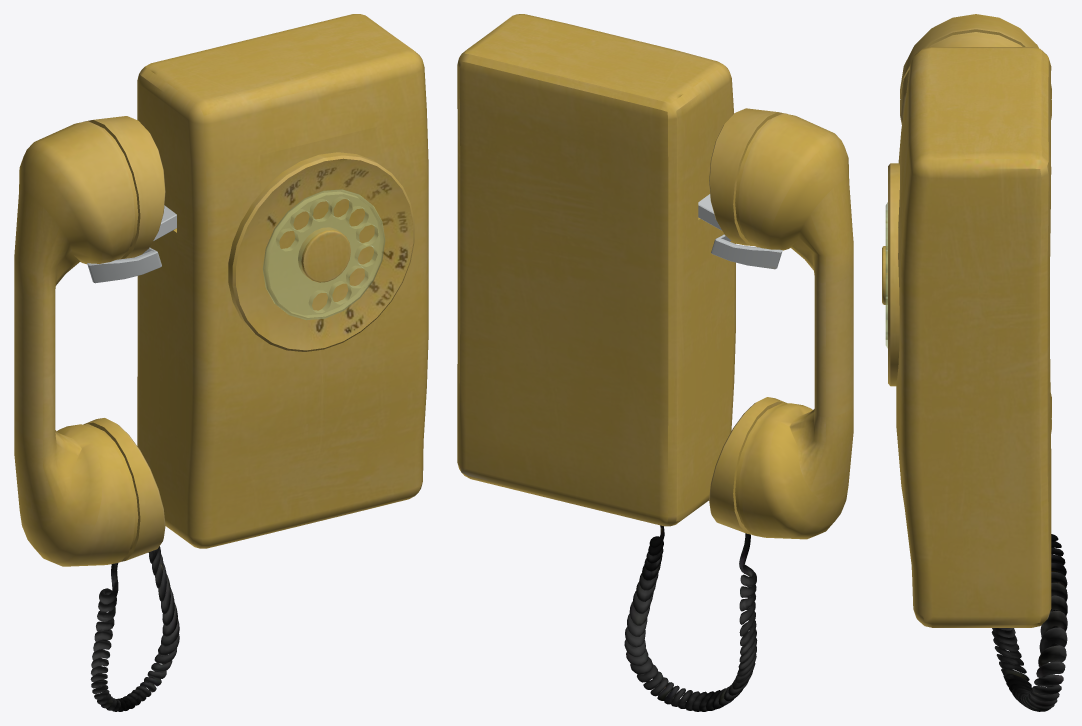
File: retro_phone.glb
3 renders of one model, left to right at view 1: azimuth 30°, elevation 25°; view 2: azimuth 150°, elevation 25°; view 3: azimuth 270°, elevation 25°, orthographic. The views are drawn at different scales.
Parts seen in each view (by area): view 1: polySurface7; view 2: polySurface7; view 3: polySurface7.
Part boxes in pixels (<box>): polySurface7: <box>14,14,428,711</box>; polySurface7: <box>457,14,853,711</box>; polySurface7: <box>882,14,1067,711</box>.
Size of the model in its own units: 1.25 by 2 by 0.5014.
Materials: 1 (1 with a texture image).
